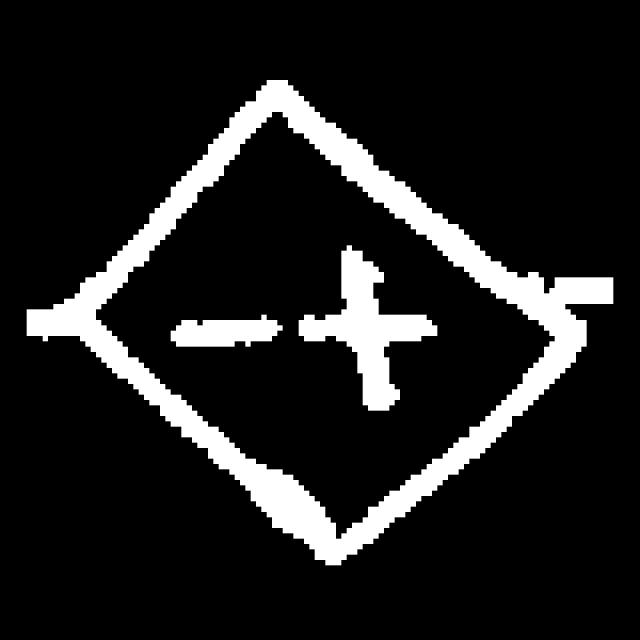dependant_voltage: (74, 65, 594, 566)
